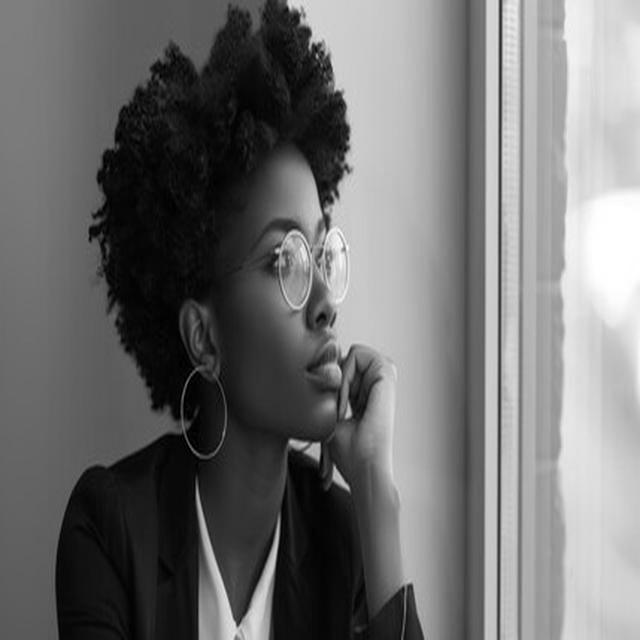Neutral: (224, 154, 342, 441)
